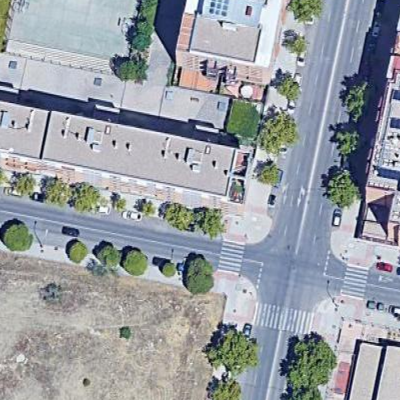tree: (280, 331, 341, 386), (201, 320, 261, 371), (256, 109, 302, 153), (338, 76, 375, 124), (322, 166, 363, 208), (182, 256, 217, 296), (201, 373, 251, 400), (121, 19, 156, 52), (330, 125, 366, 157), (71, 180, 102, 212), (2, 222, 33, 252), (7, 170, 39, 199), (197, 206, 225, 239), (113, 55, 148, 81), (163, 201, 194, 230), (253, 158, 282, 189), (287, 1, 324, 25), (123, 249, 151, 279), (41, 177, 68, 206), (275, 71, 300, 101), (93, 242, 120, 269), (287, 32, 308, 61), (66, 239, 88, 265), (137, 199, 156, 218), (160, 260, 177, 279), (113, 196, 127, 214)
